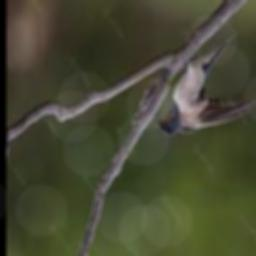Swallow: (154, 33, 256, 137)
